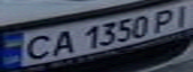0: (130, 12, 157, 38)
1: (78, 22, 103, 51)
3: (96, 19, 121, 47)
5: (115, 16, 139, 43)
A: (45, 28, 78, 57)
C: (12, 33, 57, 62)
I: (169, 1, 193, 28)
P: (148, 7, 181, 34)
